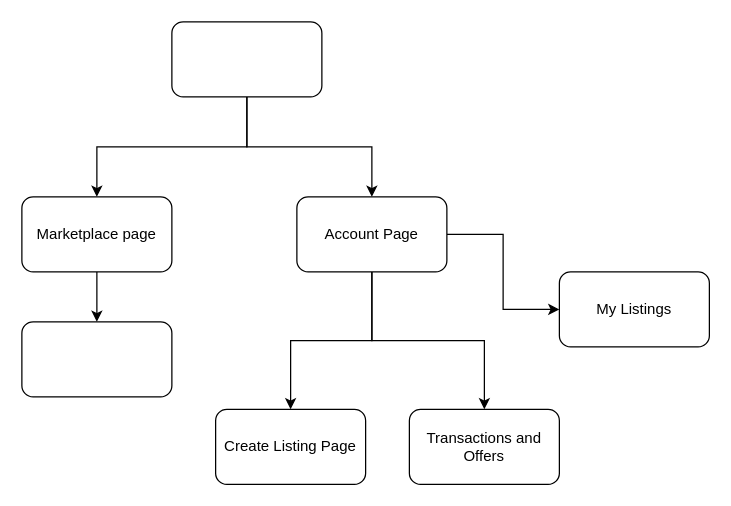
This 731x506 diagram has some shape labels left out. Each missing label, with the centre of its shape:
"Home Page" goes at point (246, 59).
"Individual Listing Page" goes at point (96, 359).
